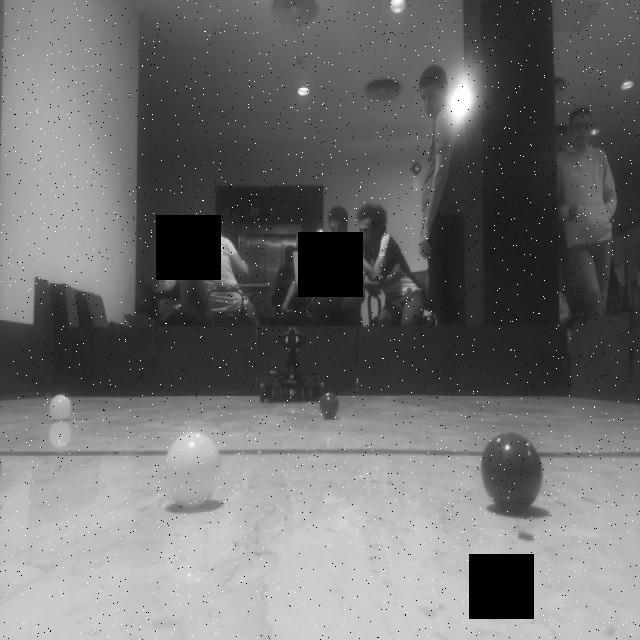ball: (481, 430, 547, 520), (163, 425, 222, 511), (46, 390, 75, 426), (318, 389, 342, 423)
